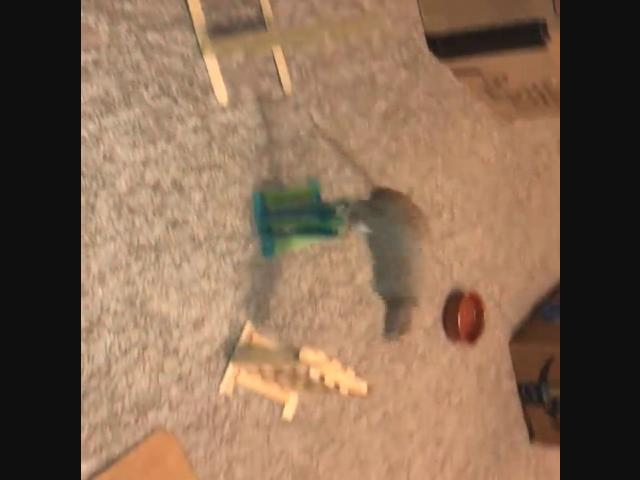Tikus: (335, 164, 458, 341)
